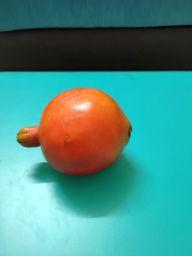pomegranate: (19, 87, 132, 176)
